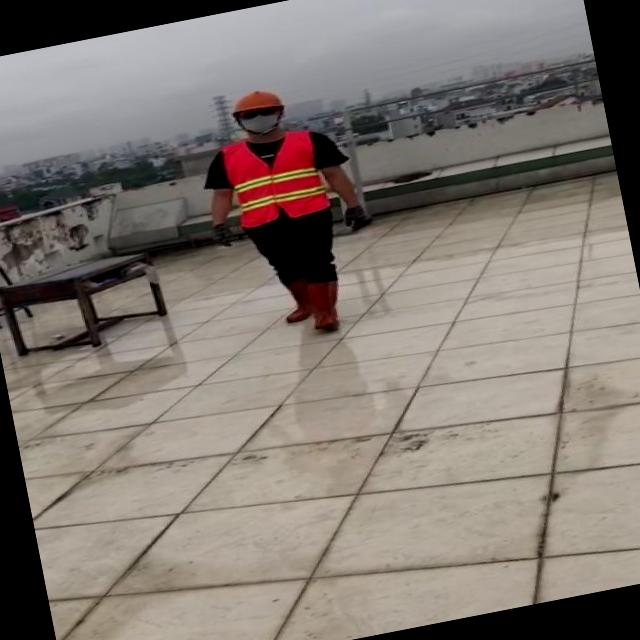boots: (304, 278, 349, 332), (278, 281, 312, 326)
gloves: (196, 210, 245, 259), (330, 196, 376, 239)
helmet: (226, 85, 286, 116)
vest: (220, 126, 328, 231)
